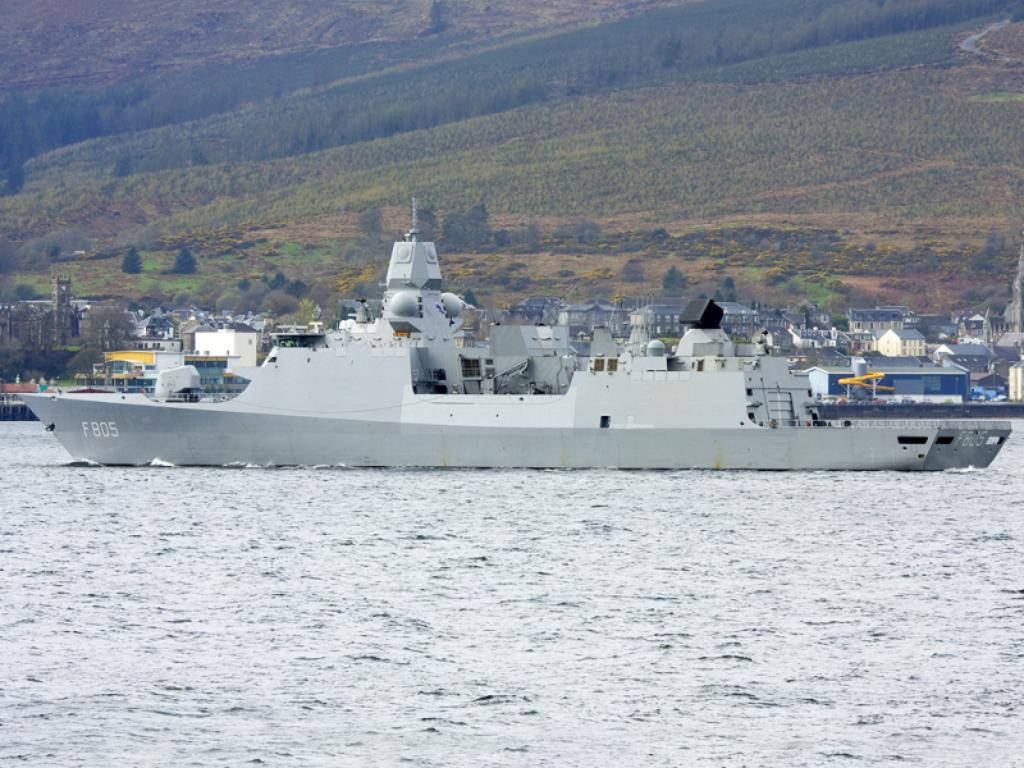Warship: (12, 190, 1014, 475)
